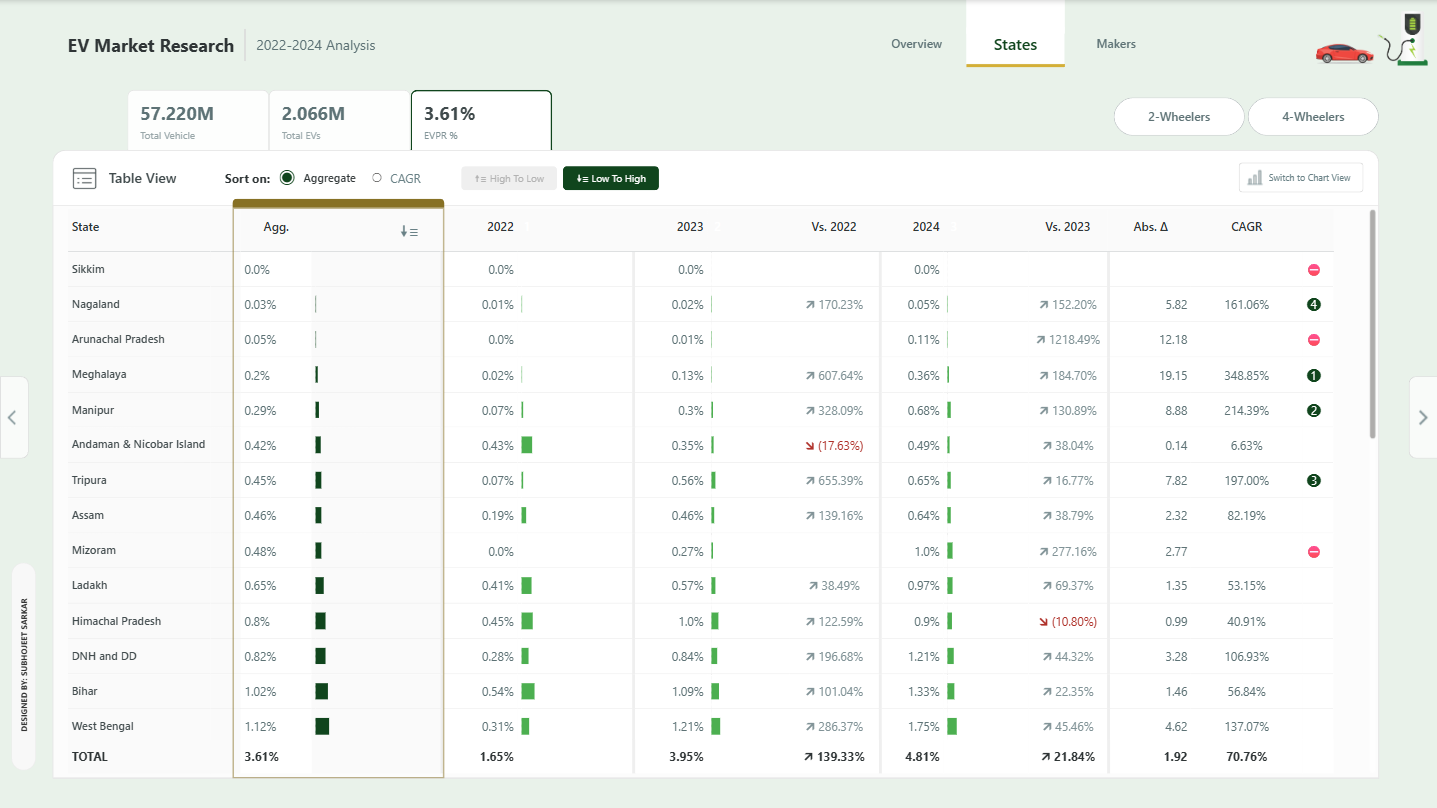

What the dashboard file says about the page in this screenshot:
{"tool":"powerbi","page":{"name":"States: 2","canvas":[1920,1080],"ordinal":3},"visuals":[{"type":"advancedSlicerVisual","title":"Slicer :Total Sales/EV Sales/EVPR%","fields":{"Values":["Param 0201: Total Sales/EV Sales/EVPR%.Total Sales/EV Sales/EVPR%"],"Label":["KPIs.Lbl Switch 1"]},"box":[171,116,568,88],"z":0},{"type":"clusteredColumnChart","fields":{"Y":["KPIs.CAGR"],"Rows":["electric_vehicle_sales_by_state.State"]},"box":[67,274.3,1776,777.1],"z":0,"group":"g1"},{"type":"shape","title":"Container Frame","box":[66.7,196.7,1776.7,853.3],"z":1000},{"type":"actionButton","title":"Aggregate Radio Button","box":[380,228,112,32],"z":1000,"group":"g1"},{"type":"image","box":[1753.3,25,86.8,93.5],"z":2000},{"type":"actionButton","title":"Aggregate Radio Button","box":[502,228,80,32],"z":2000,"group":"g1"},{"type":"image","box":[1828.2,0,91.8,100.2],"z":3000},{"type":"actionButton","box":[1158.8,33.8,131.2,48.8],"z":4000},{"type":"actionButton","box":[1290,36.3,131.4,48.6],"z":5000},{"type":"shape","box":[1290,75,131.7,25],"z":6000},{"type":"shape","box":[1290,0,131.7,45],"z":7000},{"type":"actionButton","box":[1425.6,33.3,130,48.9],"z":8000},{"type":"actionButton","box":[0,503.3,38.3,110],"z":9000},{"type":"actionButton","box":[1881.2,502.5,38.8,110],"z":10000},{"type":"shape","title":"Label :Sort Order","box":[300,218,72,50],"z":11000},{"type":"shape","box":[146.7,221.7,116.7,40],"z":12000},{"type":"shape","box":[261.4,221.2,12.9,44.3],"z":13000},{"type":"advancedSlicerVisual","title":"Slicer: SORT_Order","fields":{"Values":["0201_SORT Order.SORT_Order"]},"box":[612,228,264,32],"z":14000},{"type":"group","id":"g1","title":"CAGR by State Chart ","box":[67,228,1776,823.4],"z":16000},{"type":"actionButton","box":[1652,222,168,40],"z":17000},{"type":"shape","box":[90.5,41.6,229.8,36.2],"z":18000},{"type":"shape","box":[320,38.5,13.3,43.3],"z":19000},{"type":"shape","box":[341.6,41.9,268.3,36.7],"z":20000},{"type":"actionButton","box":[15,752,33,278],"z":21000},{"type":"advancedSlicerVisual","fields":{"Values":["Dim_Vehicle_type.Description"]},"box":[1488.3,130,355,51.7],"z":22000},{"type":"image","box":[90,209.8,45.7,55.7],"z":23000}]}

Visuals, with their boxes in screenshot pixels (x1, y1, x2, y2), scaled from the page's 1920x1080 canvas onto the 1437x808 screenshot:
"Slicer :Total Sales/EV Sales/EVPR%" advancedSlicerVisual: box(128, 87, 553, 153)
clusteredColumnChart - KPIs.CAGR x electric_vehicle_sales_by_state.State: box(50, 205, 1379, 787)
"Container Frame" shape: box(50, 147, 1380, 786)
"Aggregate Radio Button" actionButton: box(284, 171, 368, 195)
image: box(1312, 19, 1377, 89)
"Aggregate Radio Button" actionButton: box(376, 171, 436, 195)
image: box(1368, 0, 1436, 75)
actionButton: box(867, 25, 965, 62)
actionButton: box(965, 27, 1064, 64)
shape: box(965, 56, 1064, 75)
shape: box(965, 0, 1064, 34)
actionButton: box(1067, 25, 1164, 61)
actionButton: box(0, 377, 29, 459)
actionButton: box(1408, 376, 1436, 458)
"Label :Sort Order" shape: box(225, 163, 278, 201)
shape: box(110, 166, 197, 196)
shape: box(196, 165, 205, 199)
"Slicer: SORT_Order" advancedSlicerVisual: box(458, 171, 656, 195)
"CAGR by State Chart " group: box(50, 171, 1379, 787)
actionButton: box(1236, 166, 1362, 196)
shape: box(68, 31, 240, 58)
shape: box(240, 29, 249, 61)
shape: box(256, 31, 456, 59)
actionButton: box(11, 563, 36, 771)
advancedSlicerVisual - Dim_Vehicle_type.Description: box(1114, 97, 1380, 136)
image: box(67, 157, 102, 199)
